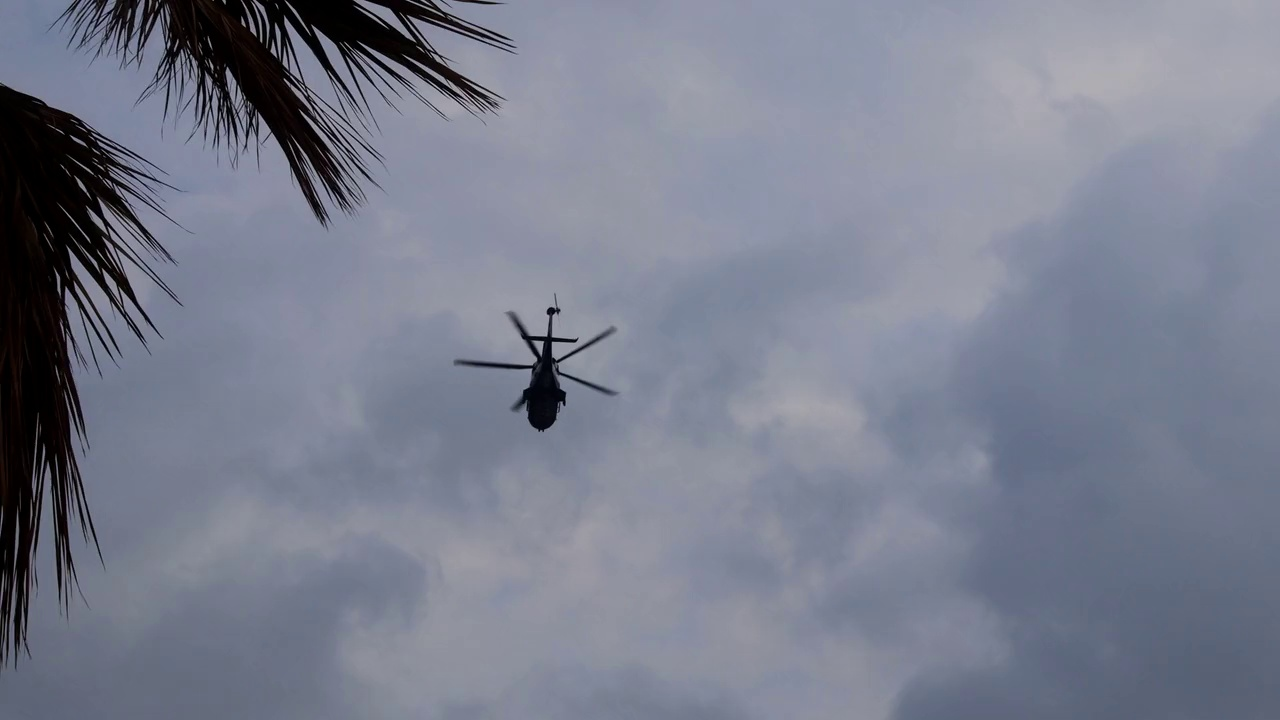heli: (453, 305, 620, 431)
